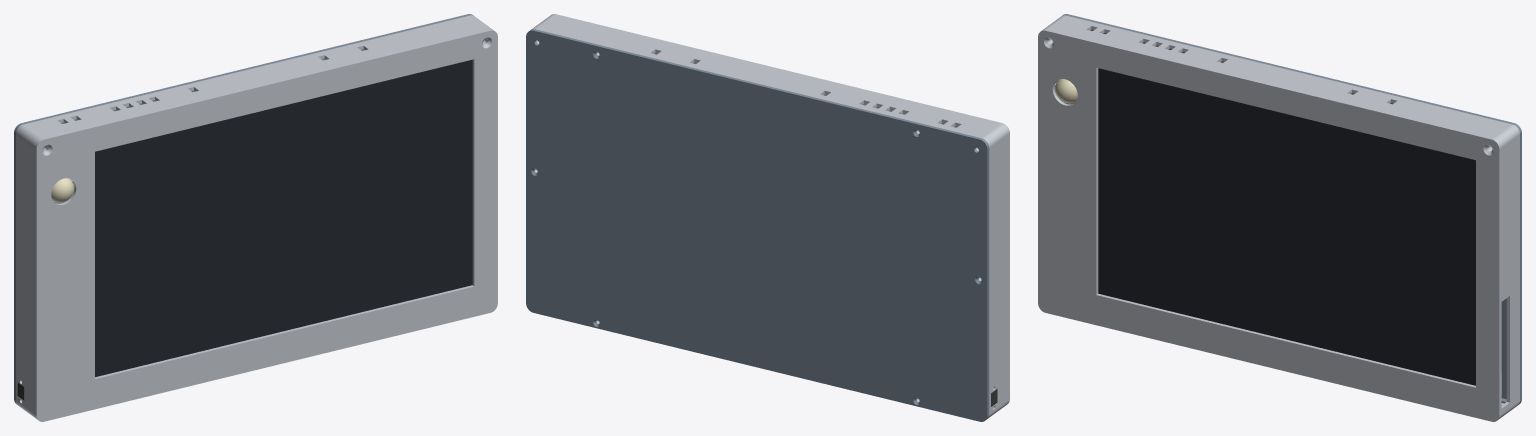
The model's file is gehaeuse_komplett.dae.
3 views of the same model, side by side, from view 1: azimuth 30°, elevation 25°; view 2: azimuth 150°, elevation 25°; view 3: azimuth 330°, elevation 25° (orthographic).
Parts seen in each view (by area): view 1: REFERENZ_Monitor, Front_komplett, Rueckseite_komplett, REFERENZ_PIR; view 2: Rueckseite_komplett, Front_komplett; view 3: REFERENZ_Monitor, Front_komplett, Rueckseite_komplett, REFERENZ_PIR.
Boxes of the visible parts, x1,y1,x2,y2 form: REFERENZ_Monitor: (95, 59, 472, 377); Front_komplett: (16, 15, 497, 421); Rueckseite_komplett: (14, 14, 473, 404); REFERENZ_PIR: (51, 178, 74, 202); Rueckseite_komplett: (526, 29, 989, 421); Front_komplett: (531, 14, 1009, 418); REFERENZ_Monitor: (1098, 68, 1475, 385); Front_komplett: (1038, 15, 1519, 421); Rueckseite_komplett: (1056, 14, 1521, 404); REFERENZ_PIR: (1054, 79, 1077, 103).
Size of the model in its own units: 425 by 40.48 by 248.
